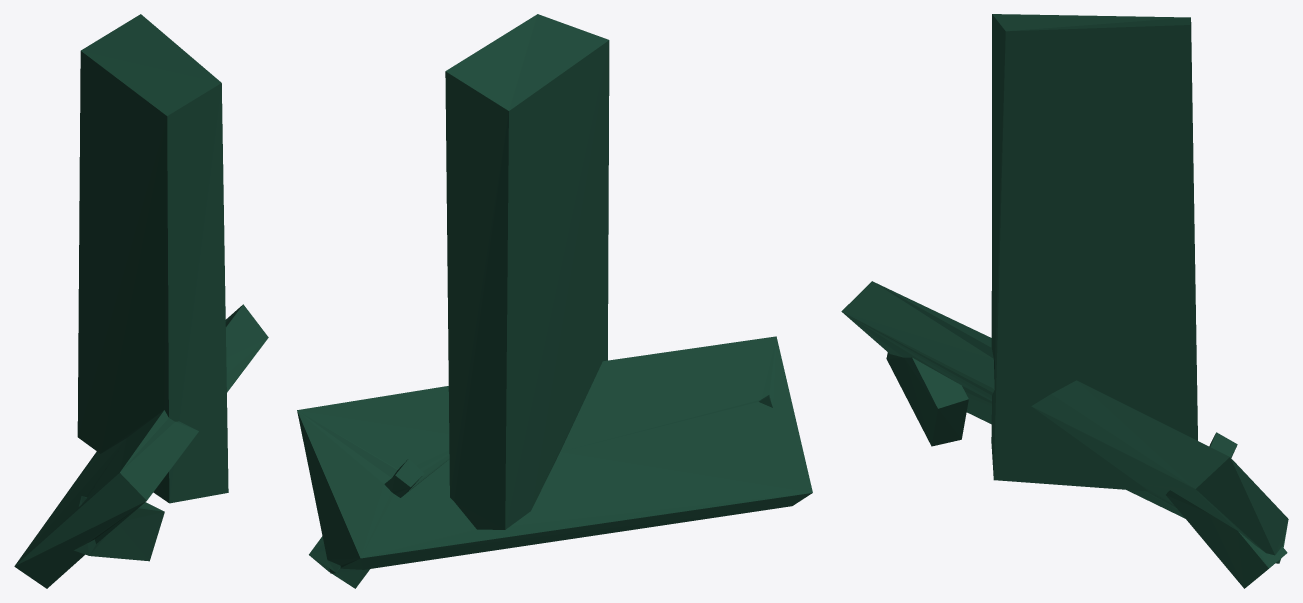
The picture shows the model from 3 angles, left to right: view 1: azimuth 30°, elevation 25°; view 2: azimuth 150°, elevation 25°; view 3: azimuth 270°, elevation 25°; orthographic projection. The views are drawn at different scales.
Visible parts, largest first — view 1: 791_Cube.3188; view 2: 791_Cube.3188; view 3: 791_Cube.3188.
Boxes of the visible parts, <box> form: 791_Cube.3188: <box>14,14,268,588</box>; 791_Cube.3188: <box>297,14,812,588</box>; 791_Cube.3188: <box>841,14,1288,588</box>.
Bounding box in the file's own units: 11.38 × 14.04 × 10.94.
